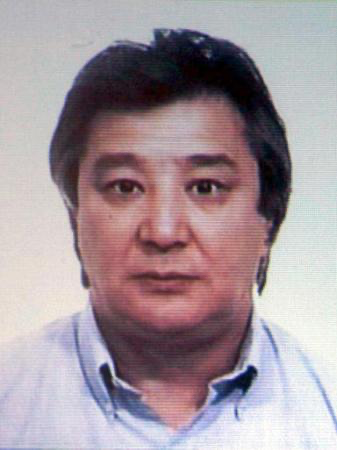Face: (72, 121, 253, 341)
